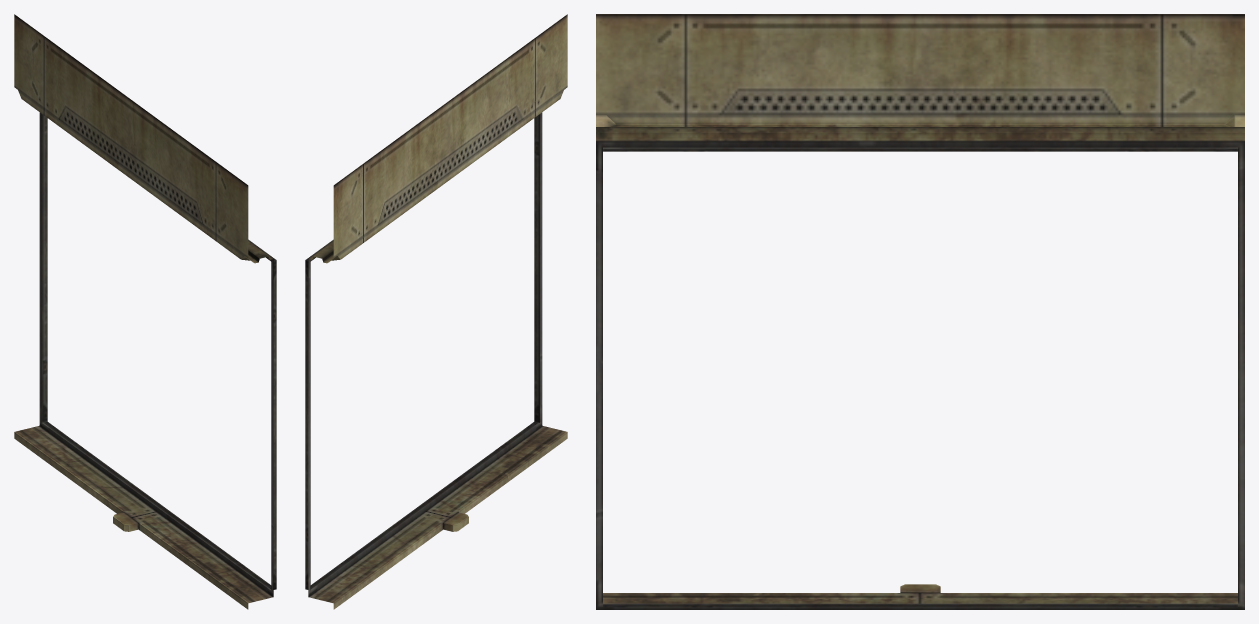
File: pplant_ground_nopanel.dae
3 views of the same model, side by side, from view 1: azimuth 30°, elevation 25°; view 2: azimuth 150°, elevation 25°; view 3: azimuth 270°, elevation 25° (orthographic). The views are drawn at different scales.
Visible parts, largest first — view 1: ground_blank_damaged_template; view 2: ground_blank_damaged_template; view 3: ground_blank_damaged_template.
Part boxes in pixels (box(x1,y1,x2,y2)): ground_blank_damaged_template: box(14, 14, 276, 609); ground_blank_damaged_template: box(305, 14, 567, 609); ground_blank_damaged_template: box(596, 14, 1244, 609).
Bounding box in the file's own units: 0.4297 × 4 × 4.
